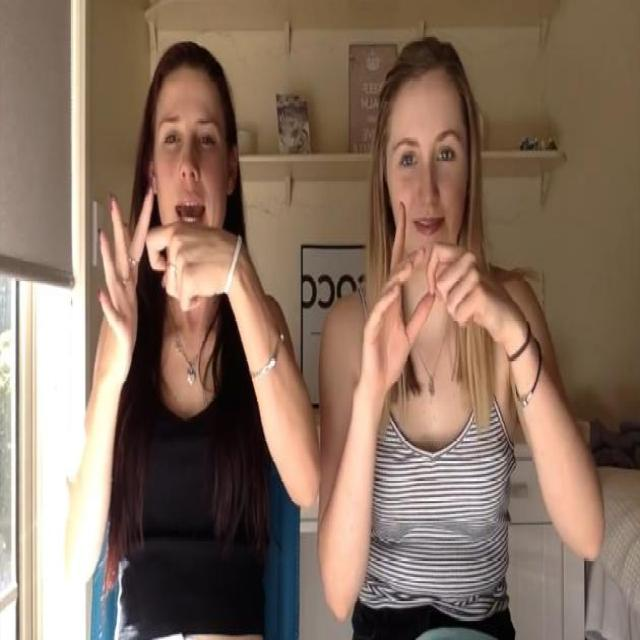K: (96, 176, 225, 357)
